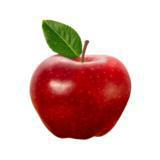apple: (29, 40, 132, 140)
